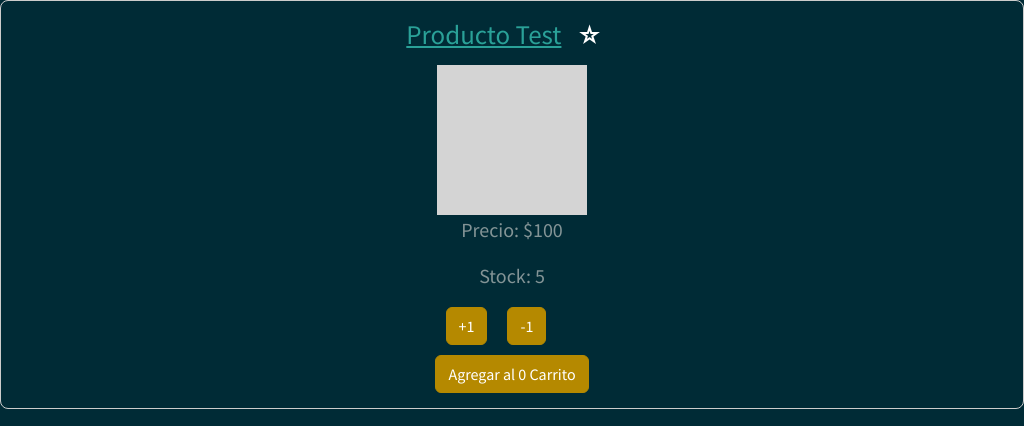
Item › should toggle favorite status when clicked
Click the text "☆" at (590,36), box left=577, top=20, right=602, bottom=51
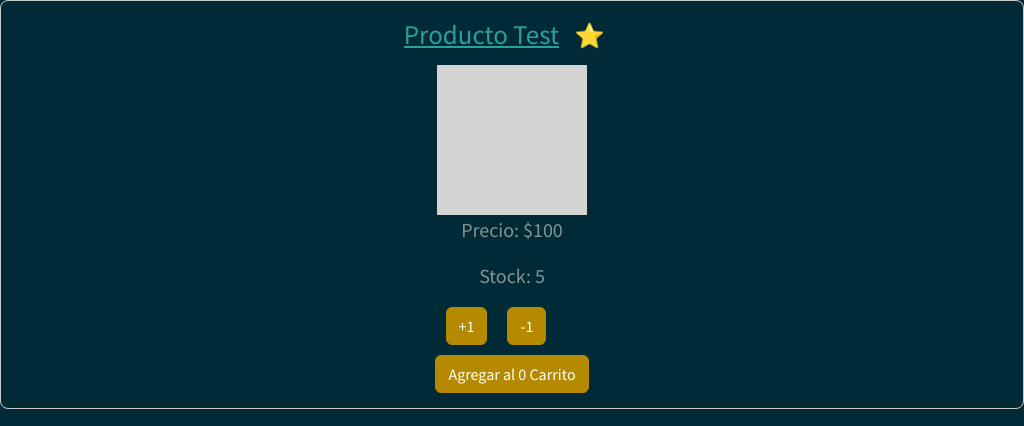
expect the text "⭐" is shown: met, box left=575, top=20, right=604, bottom=51
